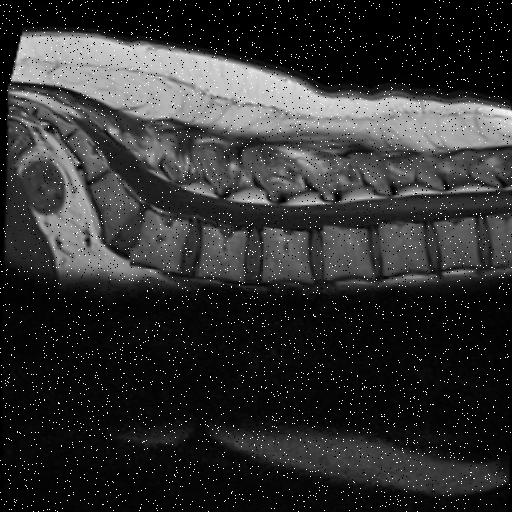L1: (377, 214, 427, 268)
L2: (320, 219, 373, 273)
L3: (261, 222, 311, 276)
L4: (195, 220, 245, 277)
L5: (128, 207, 187, 269)
S1: (90, 170, 138, 242)
